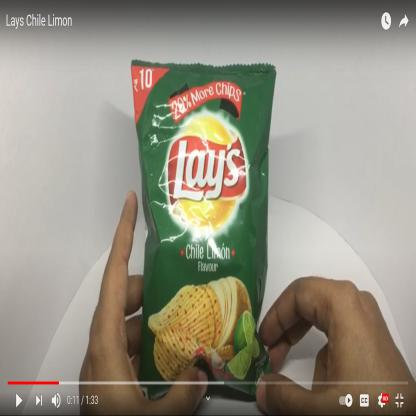chile_limon: (131, 58, 276, 398)
